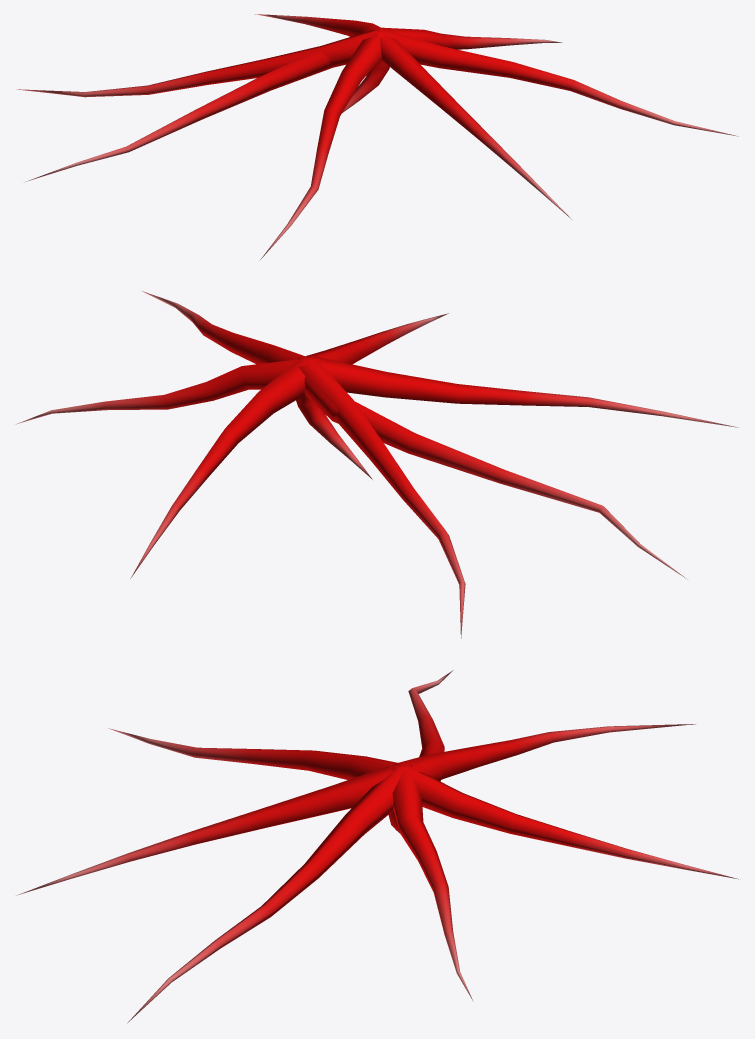
File: Organism02.fbx
3 views of the same model, one above another, from view 1: azimuth 30°, elevation 25°; view 2: azimuth 150°, elevation 25°; view 3: azimuth 270°, elevation 25° (orthographic). The views are drawn at different scales.
Visible parts, largest first — view 1: transform5; view 2: transform5; view 3: transform5.
Boxes of the visible parts, x1,y1,x2,y2 form: transform5: (17, 14, 737, 259); transform5: (16, 291, 737, 638); transform5: (16, 670, 738, 1023).
Bounding box in the file's own units: 158 × 22.39 × 136.
